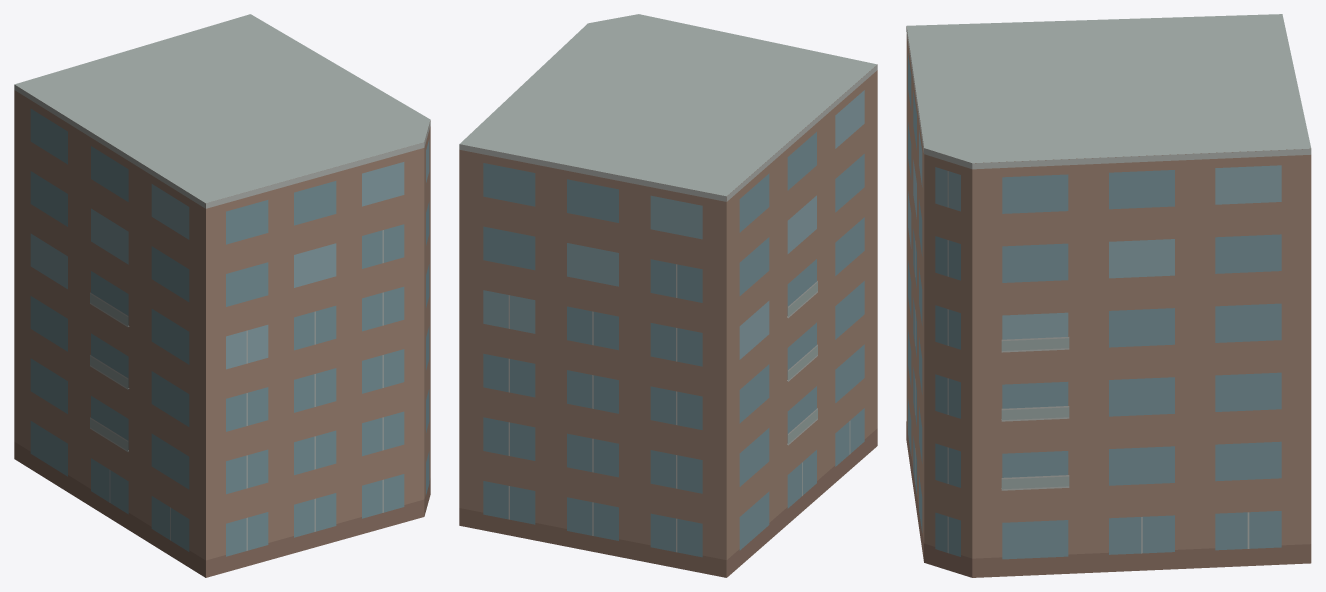
File: survey-upis-32869943.glb
The picture shows the model from 3 angles, left to right: view 1: azimuth 30°, elevation 25°; view 2: azimuth 150°, elevation 25°; view 3: azimuth 270°, elevation 25°; orthographic projection. The views are drawn at different scales.
Visible parts, largest first — view 1: survey-upis-32869943.tmp; view 2: survey-upis-32869943.tmp; view 3: survey-upis-32869943.tmp.
Boxes of the visible parts, x1,y1,x2,y2 form: survey-upis-32869943.tmp: [14, 14, 430, 577]; survey-upis-32869943.tmp: [459, 14, 877, 577]; survey-upis-32869943.tmp: [906, 14, 1311, 577].
Bounding box in the file's own units: 12.82 × 16.6 × 14.7.
